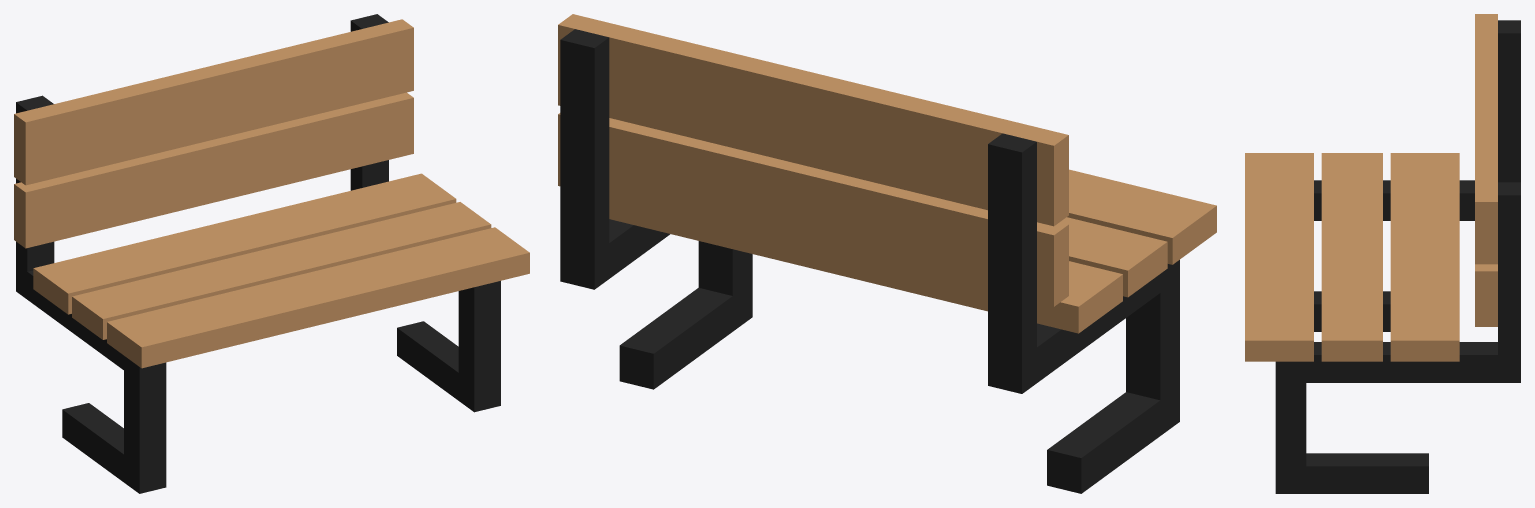
File: others2-10.obj
3 views of the same model, side by side, from view 1: azimuth 30°, elevation 25°; view 2: azimuth 150°, elevation 25°; view 3: azimuth 270°, elevation 25° (orthographic). The views are drawn at different scales.
Bounding box in the file's own units: 5.8 × 4.3 × 3.6.
1 material, 1 textured.
